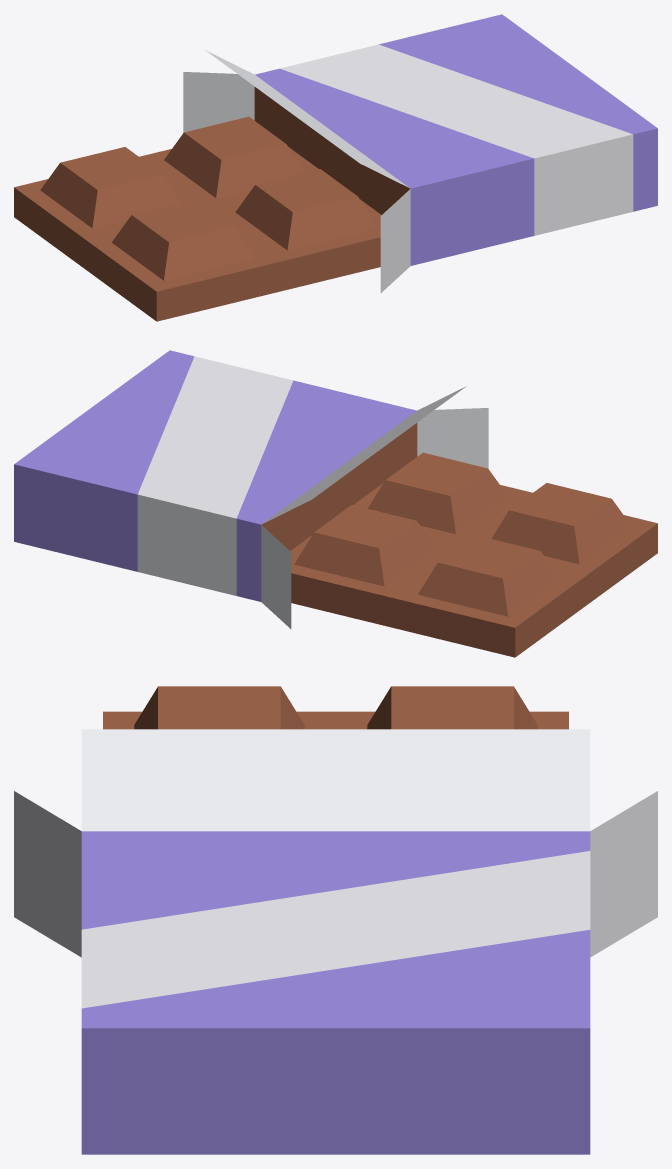
The model's file is chocolateWrapper.obj.
3 views of the same model, one above another, from view 1: azimuth 30°, elevation 25°; view 2: azimuth 150°, elevation 25°; view 3: azimuth 270°, elevation 25° (orthographic). The views are drawn at different scales.
Visible parts, largest first — view 1: chocolateWrapper; view 2: chocolateWrapper; view 3: chocolateWrapper.
Part boxes in pixels (box(x1,y1,x2,y2)): chocolateWrapper: box(14, 14, 657, 321); chocolateWrapper: box(14, 350, 657, 657); chocolateWrapper: box(14, 686, 657, 1154).
Bounding box in the file's own units: 0.2924 × 0.0649 × 0.202.
